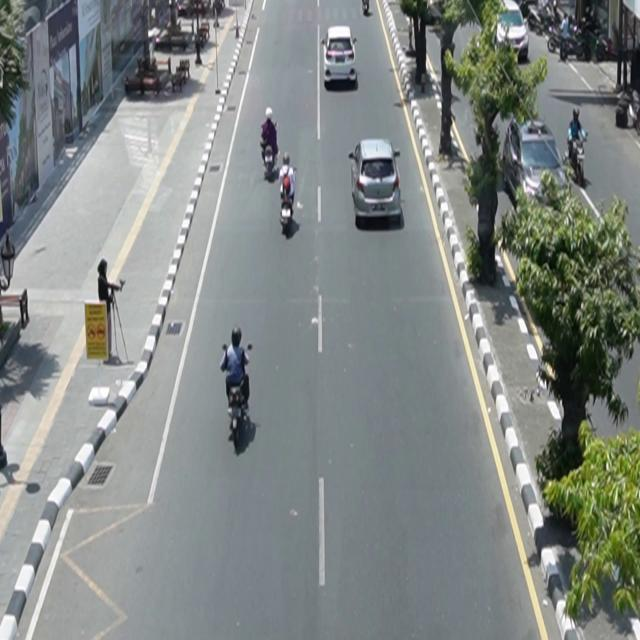car: (349, 139, 403, 229), (322, 25, 359, 85)
